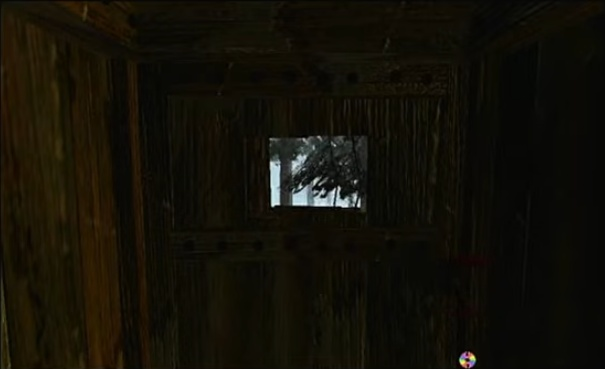Waiting: (455, 348, 479, 368)
